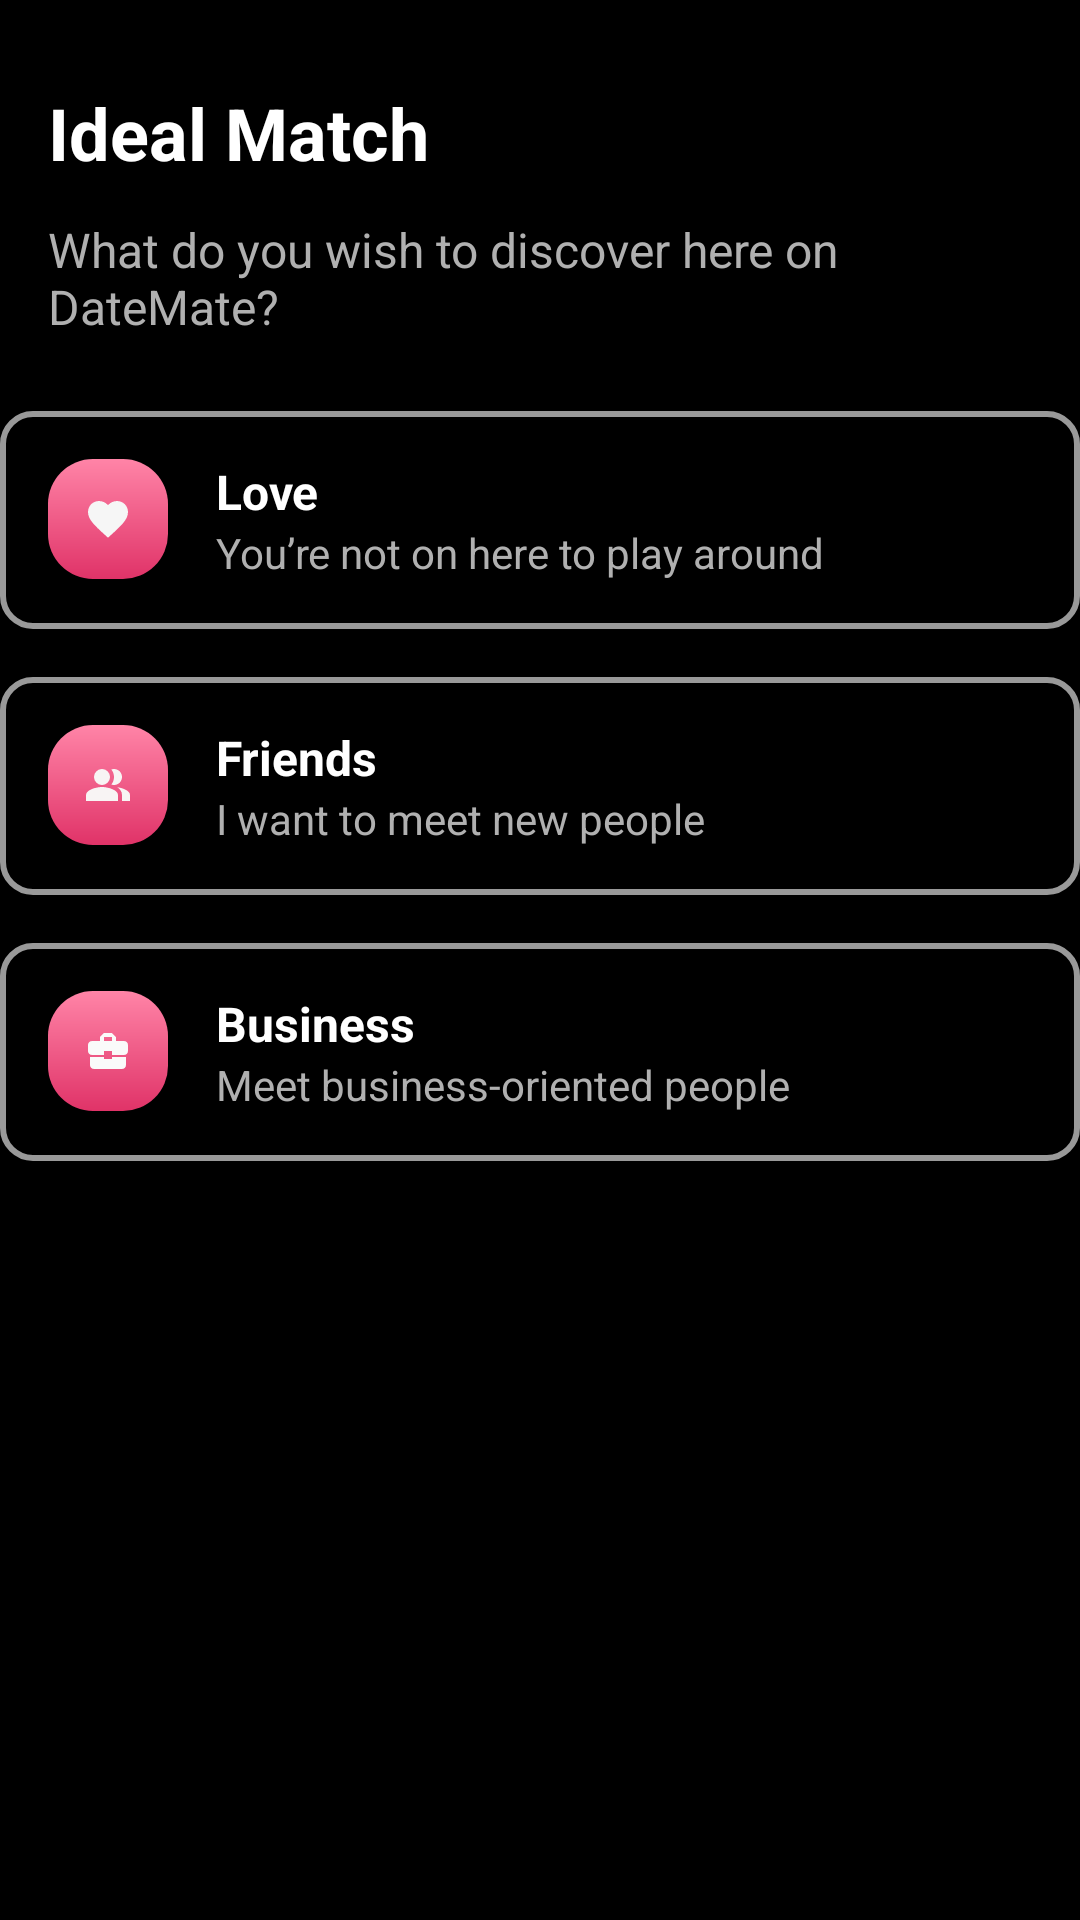

Named icons in this screenshot (1080×1920) and their bounding boxes, (x1=x1, y1=y1, x2=x2, y2=y2):
heart: (x1=48, y1=459, x2=168, y2=579)
